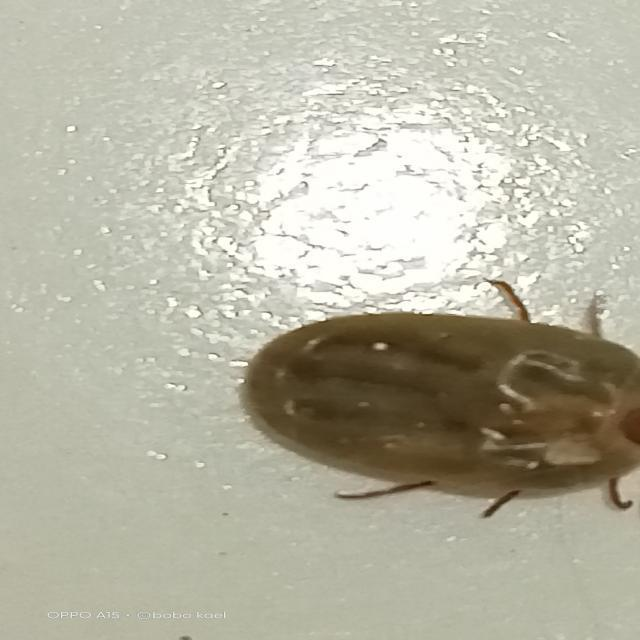Rhipicephalus Sanguineus-F-Fed: (237, 280, 640, 519)
